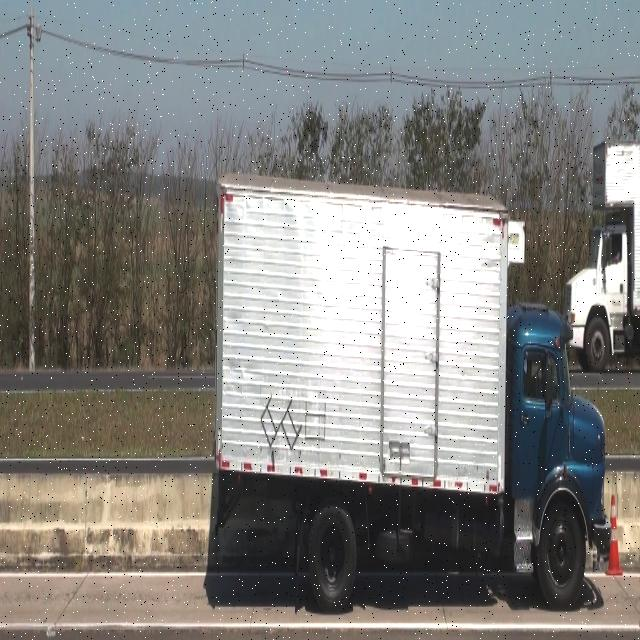-axle: (539, 497, 586, 606), (312, 502, 356, 612)
